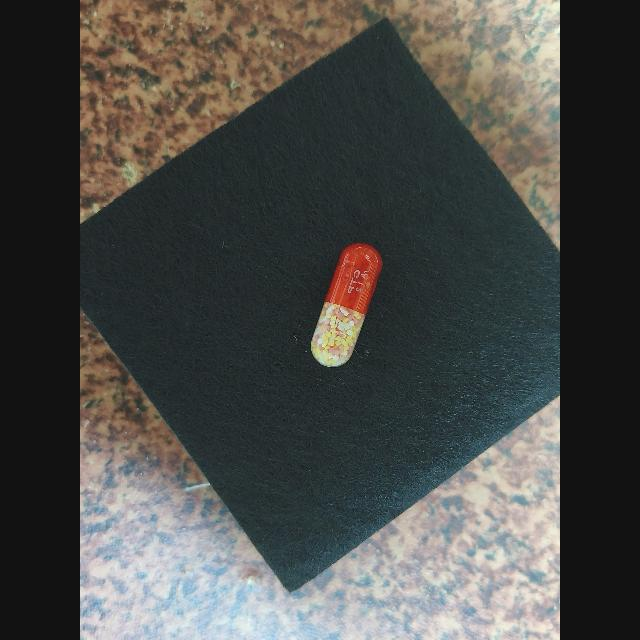Intact Capsule: (311, 243, 383, 367)
